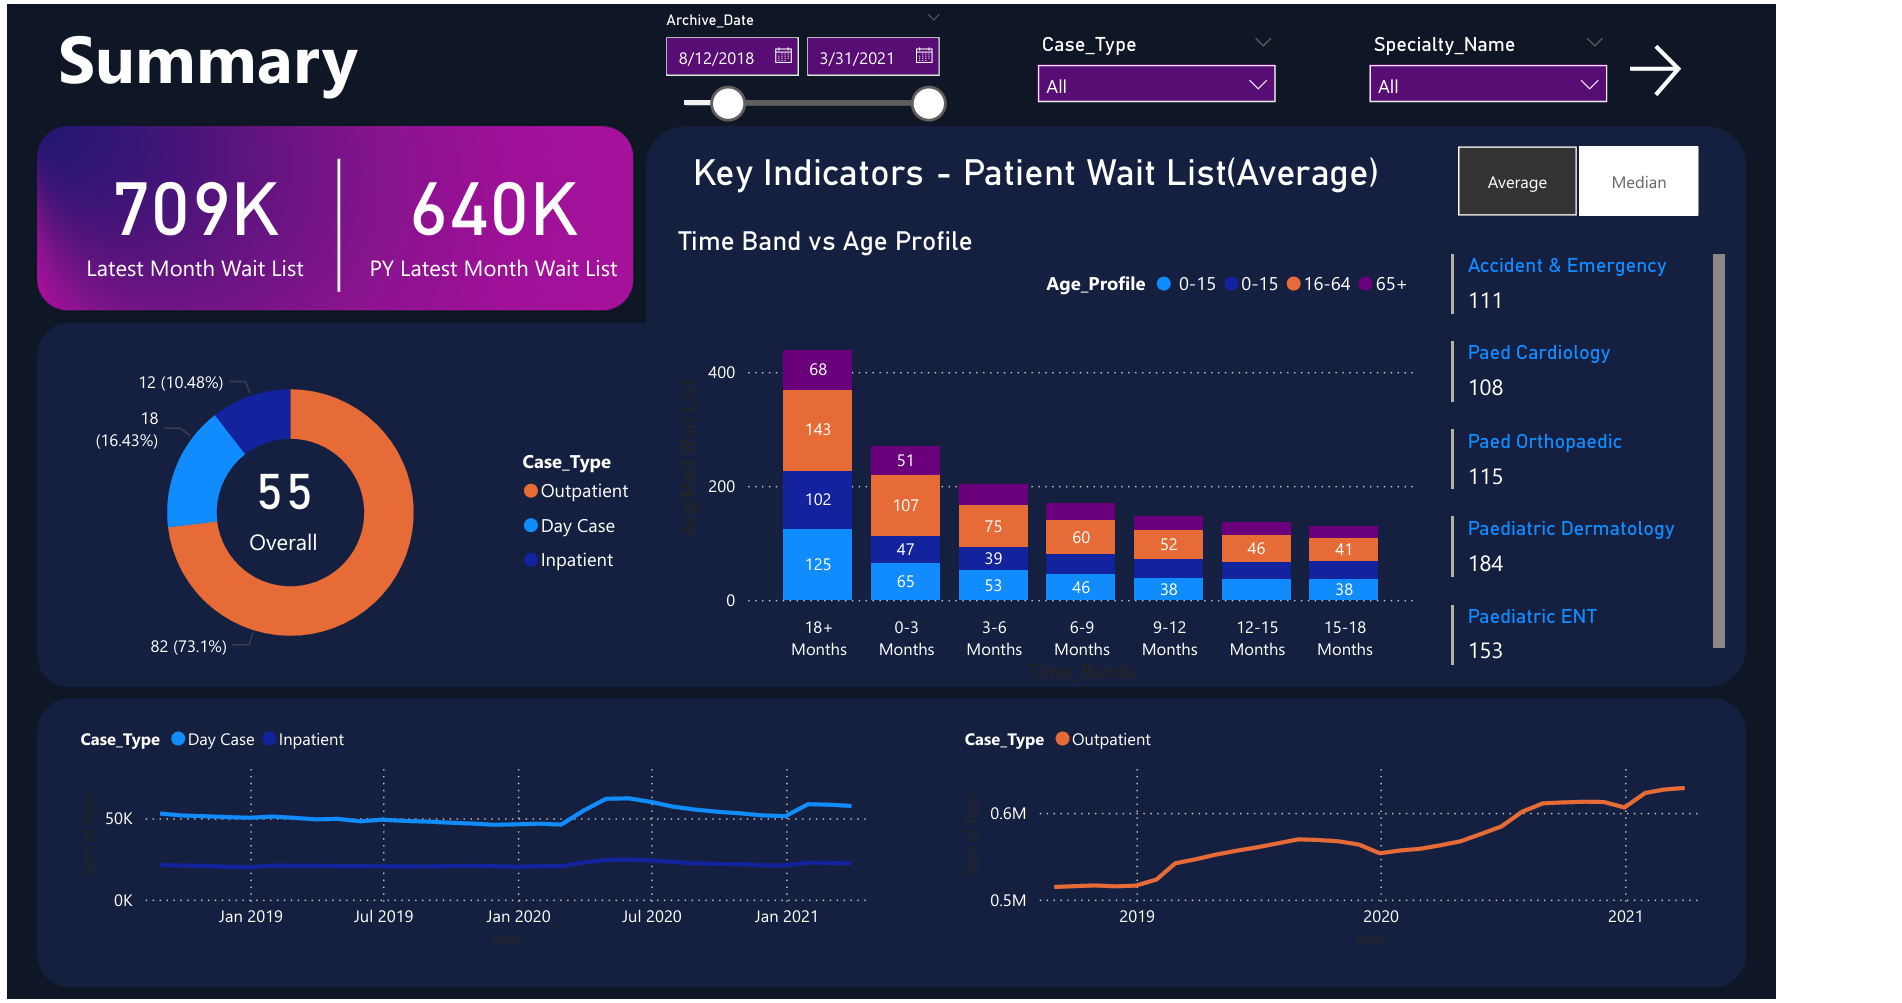

The page's visual inventory and layout, read from the dashboard file:
{"tool":"powerbi","page":{"name":"Summary","canvas":[1280,720],"ordinal":0},"visuals":[{"type":"cardVisual","fields":{"Data":["All_Data.NoDataLeft"]},"box":[128,528,432,144],"z":0},{"type":"cardVisual","fields":{"Data":["All_Data.NoDataRight"]},"box":[736,528,448,144],"z":1000},{"type":"card","fields":{"Values":["All_Data.Latest Month Wait List"]},"box":[32,96,208,112],"z":2000},{"type":"card","fields":{"Values":["All_Data.PY Latest Month Wait List"]},"box":[240,96,224,112],"z":3000},{"type":"slicer","fields":{"Values":["Calculation Method.Calc Method"]},"box":[1024,96,224,64],"z":4000},{"type":"donutChart","fields":{"Category":["All_Data.Case_Type"],"Y":["All_Data.Avg/Med Wait List"]},"box":[32,240,432,256],"z":5000},{"type":"columnChart","title":"Time Band vs Age Profile","fields":{"Y":["All_Data.Avg/Med Wait List"],"Category":["All_Data.Time_Bands"],"Series":["All_Data.Age_Profile"]},"box":[480,160,544,336],"z":6000},{"type":"multiRowCard","fields":{"Values":["All_Data.Specialty_Name","All_Data.Avg/Med Wait List"]},"box":[1040,176,208,312],"z":7000},{"type":"lineChart","fields":{"Y":["Sum(All_Data.Total)"],"Series":["All_Data.Case_Type"],"Category":["All_Data.Archive_Date.Variation.Date Hierarchy.Year","All_Data.Archive_Date.Variation.Date Hierarchy.Quarter","All_Data.Archive_Date.Variation.Date Hierarchy.Month","All_Data.Archive_Date.Variation.Date Hierarchy.Day"]},"box":[48,512,592,176],"z":8000},{"type":"lineChart","fields":{"Y":["Sum(All_Data.Total)"],"Category":["All_Data.Archive_Date.Variation.Date Hierarchy.Year","All_Data.Archive_Date.Variation.Date Hierarchy.Quarter","All_Data.Archive_Date.Variation.Date Hierarchy.Month","All_Data.Archive_Date.Variation.Date Hierarchy.Day"],"Series":["All_Data.Case_Type"]},"box":[688,512,544,176],"z":9000},{"type":"slicer","fields":{"Values":["All_Data.Archive_Date"]},"box":[464,0,224,96],"z":10000},{"type":"slicer","fields":{"Values":["All_Data.Case_Type"]},"box":[736,16,192,64],"z":11000},{"type":"slicer","fields":{"Values":["All_Data.Specialty_Name"]},"box":[976,16,192,64],"z":12000},{"type":"textbox","box":[32,0,304,80],"z":13000},{"type":"shape","box":[208,112,64,96],"z":14000},{"type":"card","fields":{"Values":["All_Data.Avg/Med Wait List"]},"box":[80,256,240,208],"z":15000},{"type":"card","fields":{"Values":["All_Data.Dynamic_Title"]},"box":[464,80,560,80],"z":16000},{"type":"actionButton","box":[1168,0,112,96],"z":17000}]}

Visuals, with their boxes on the page's 1280x720 design canvas (x1, y1, x2, y2). These are canvas units, not pixel positions in the 1902x1003 screenshot, which may show the page scaled, cropped or inside an application window:
cardVisual - All_Data.NoDataLeft: x1=128, y1=528, x2=560, y2=672
cardVisual - All_Data.NoDataRight: x1=736, y1=528, x2=1184, y2=672
card - All_Data.Latest Month Wait List: x1=32, y1=96, x2=240, y2=208
card - All_Data.PY Latest Month Wait List: x1=240, y1=96, x2=464, y2=208
slicer - Calculation Method.Calc Method: x1=1024, y1=96, x2=1248, y2=160
donutChart - All_Data.Case_Type x All_Data.Avg/Med Wait List: x1=32, y1=240, x2=464, y2=496
"Time Band vs Age Profile" columnChart: x1=480, y1=160, x2=1024, y2=496
multiRowCard - All_Data.Specialty_Name x All_Data.Avg/Med Wait List: x1=1040, y1=176, x2=1248, y2=488
lineChart - Sum(All_Data.Total) x All_Data.Case_Type: x1=48, y1=512, x2=640, y2=688
lineChart - Sum(All_Data.Total) x All_Data.Archive_Date.Variation.Date Hierarchy.Year: x1=688, y1=512, x2=1232, y2=688
slicer - All_Data.Archive_Date: x1=464, y1=0, x2=688, y2=96
slicer - All_Data.Case_Type: x1=736, y1=16, x2=928, y2=80
slicer - All_Data.Specialty_Name: x1=976, y1=16, x2=1168, y2=80
textbox: x1=32, y1=0, x2=336, y2=80
shape: x1=208, y1=112, x2=272, y2=208
card - All_Data.Avg/Med Wait List: x1=80, y1=256, x2=320, y2=464
card - All_Data.Dynamic_Title: x1=464, y1=80, x2=1024, y2=160
actionButton: x1=1168, y1=0, x2=1280, y2=96
